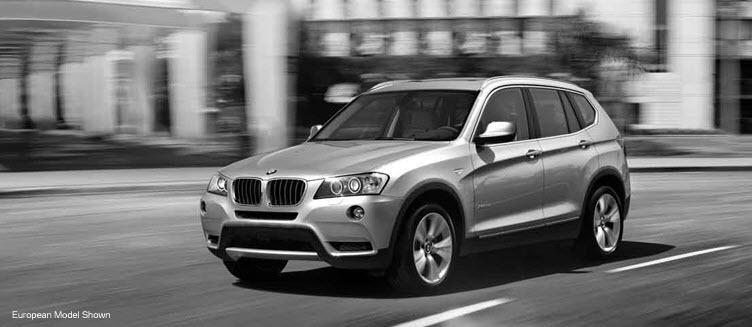car: (201, 77, 634, 294)
